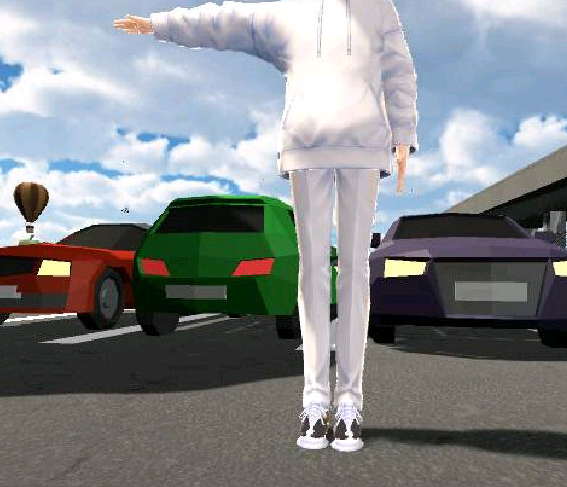singleP_left: (112, 1, 421, 452)
